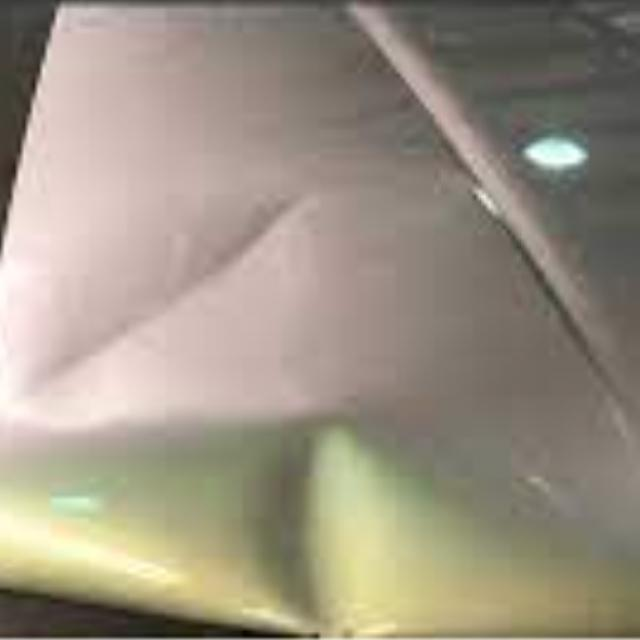dents: (16, 166, 335, 424), (228, 406, 396, 640)
